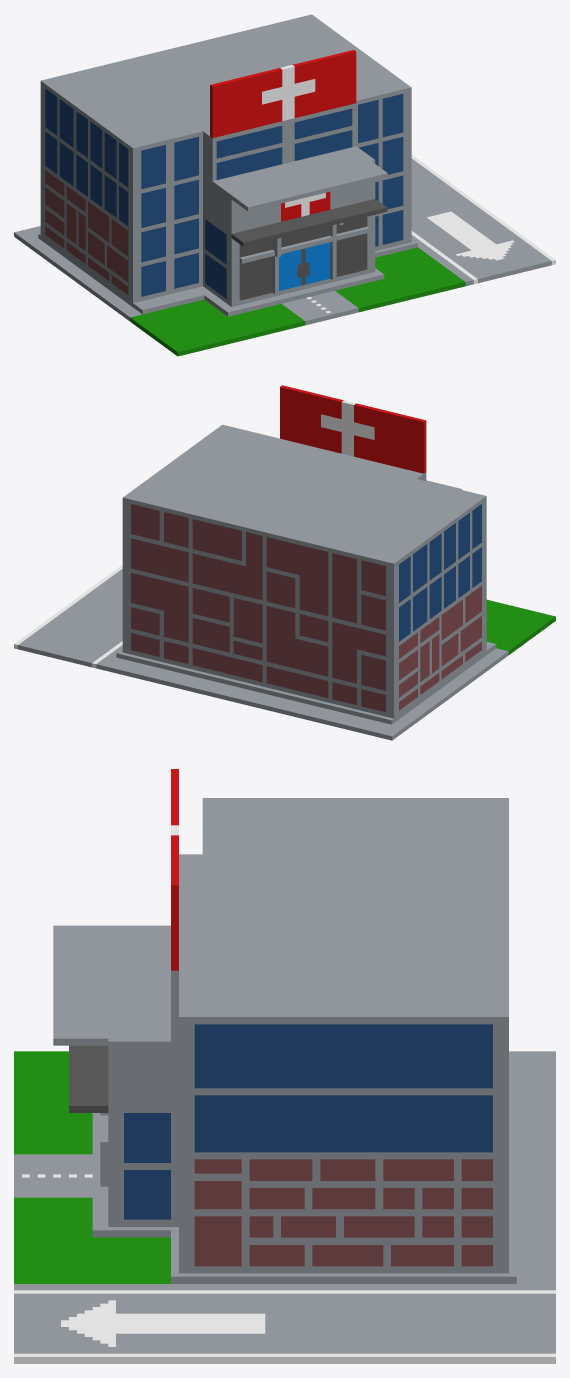
File: hospital.obj
The picture shows the model from 3 angles, top to bottom: view 1: azimuth 30°, elevation 25°; view 2: azimuth 150°, elevation 25°; view 3: azimuth 270°, elevation 25°; orthographic projection. The views are drawn at different scales.
Bounding box in the file's own units: 9.2 × 5 × 6.9.
Materials: 1 (1 with a texture image).
